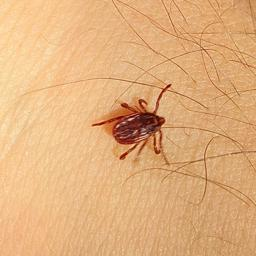Rhipicephalus sanguineus: (91, 83, 174, 161)
